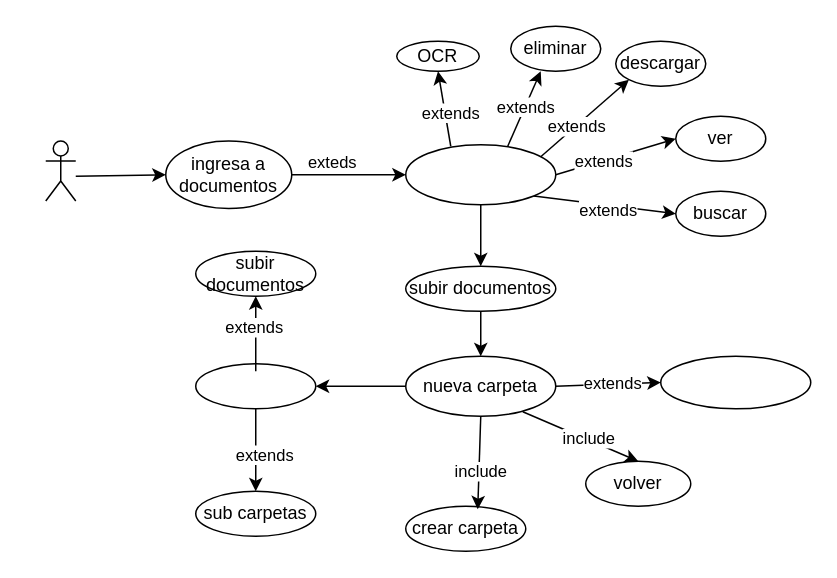
Some shapes in this 837 by 578 pixel diagram are drawn without their labels. Here are the shapes that lost their labels. From the top down, the box of each, then its label:
(44, 140, 76, 201): abogado
(404, 143, 556, 205): lista de documentos
(194, 362, 316, 409): listar carpetas
(659, 355, 811, 409): crear sub carpetas
